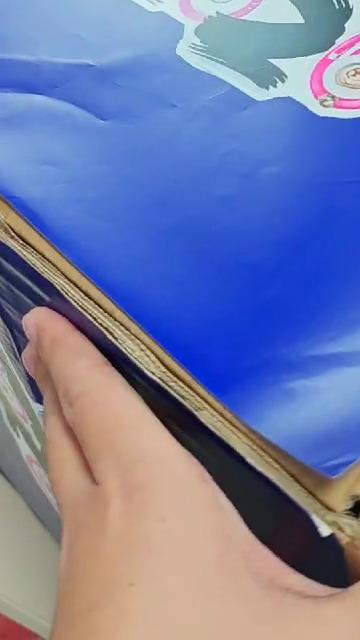B_R1: (40, 0, 360, 123)
